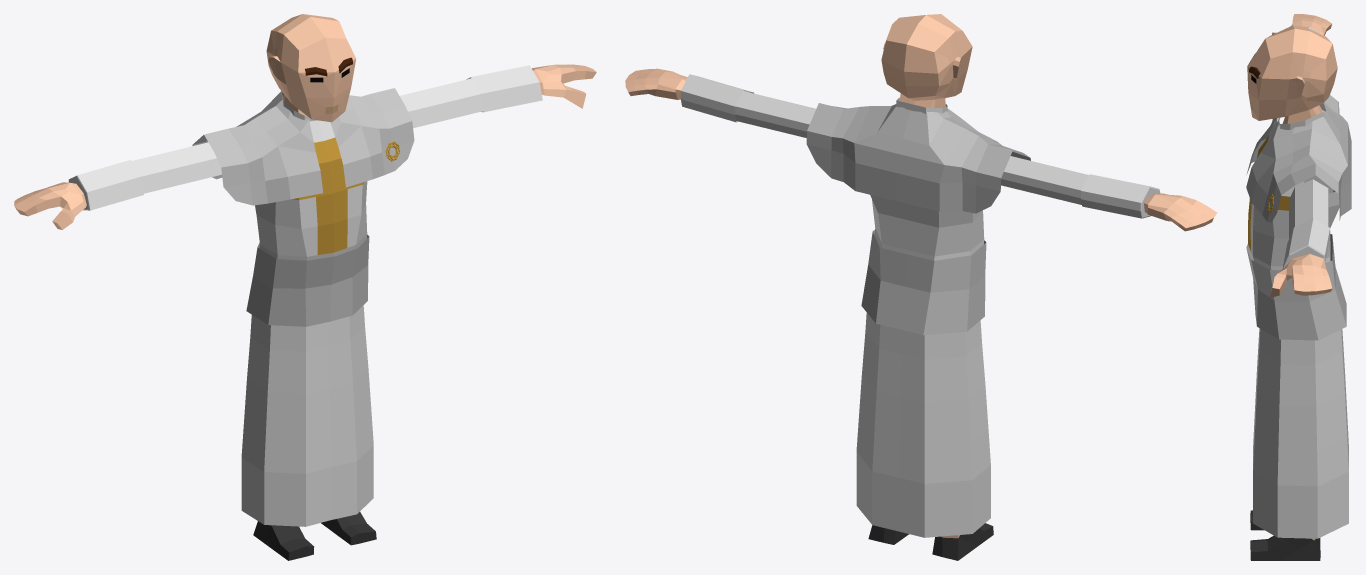
File: NPC_Cura_1.fbx
3 renders of one model, left to right at view 1: azimuth 30°, elevation 25°; view 2: azimuth 150°, elevation 25°; view 3: azimuth 270°, elevation 25°, orthographic. The views are drawn at different scales.
Visible parts, largest first — view 1: Cabeza_2; view 2: Cabeza_2; view 3: Cabeza_2.
Boxes of the visible parts, x1,y1,x2,y2 form: Cabeza_2: [14, 14, 596, 560]; Cabeza_2: [625, 14, 1217, 560]; Cabeza_2: [1246, 14, 1351, 560].
Bounding box in the file's own units: 215 × 185 × 34.56.
